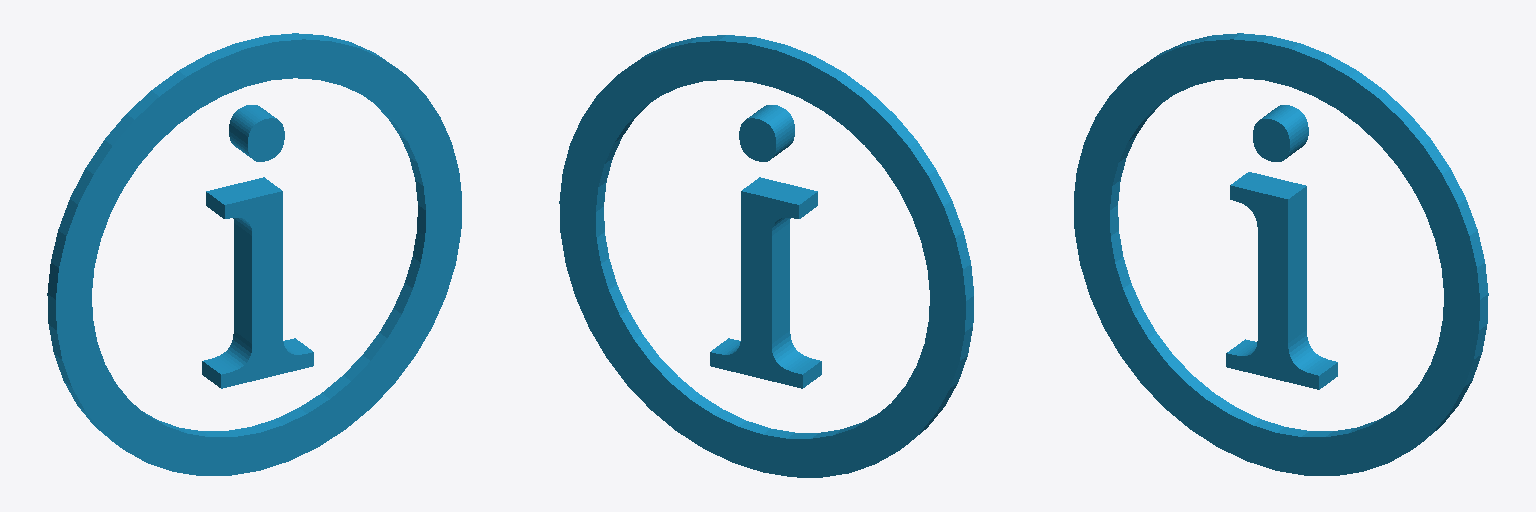
The model's file is InfoTest.obj.
3 views of the same model, side by side, from view 1: azimuth 30°, elevation 25°; view 2: azimuth 150°, elevation 25°; view 3: azimuth 330°, elevation 25° (orthographic).
Parts seen in each view (by area): view 1: Info:group_0_[number redacted]; view 2: Info:group_0_[number redacted]; view 3: Info:group_0_[number redacted].
Boxes of the visible parts, box(x1,y1,x2,y2) form: Info:group_0_[number redacted]: box(47, 33, 461, 475); Info:group_0_[number redacted]: box(559, 35, 973, 477); Info:group_0_[number redacted]: box(1074, 33, 1488, 475).
Size of the model in its own units: 0.992 by 0.9914 by 0.0793.